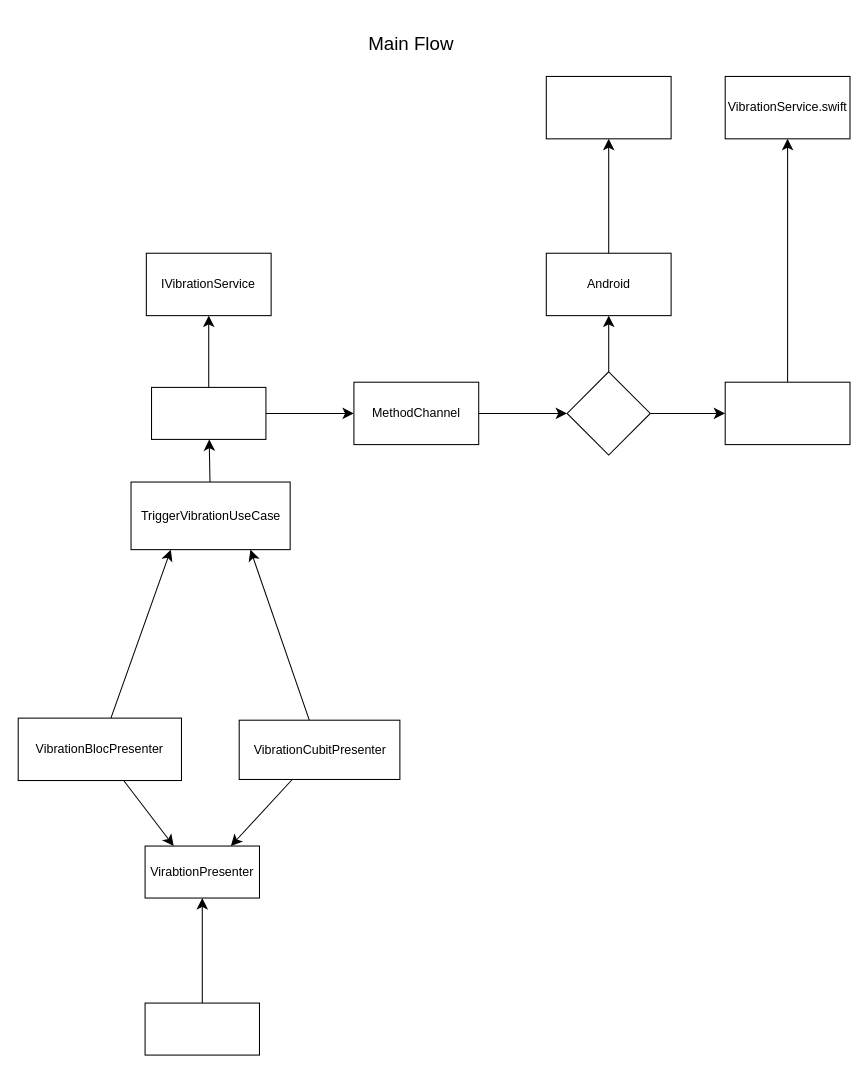
Some shapes in this 868 by 1073 pixel diagram are drawn without their labels. Each missing label, with the box of its shape:
iOS: (724, 381, 850, 445)
VibrationPage: (144, 1002, 259, 1055)
VibrationService: (150, 386, 266, 439)
VibrationService.kt: (545, 75, 671, 139)
